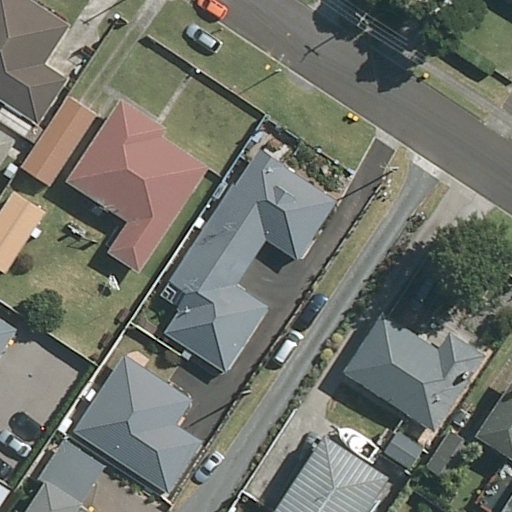DT: (353, 9, 373, 30)
